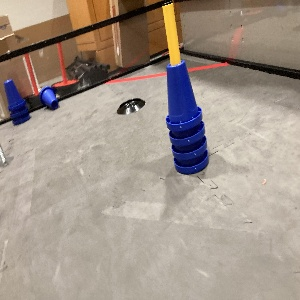Blue_1: (39, 85, 58, 108)
Blue_2: (3, 78, 31, 125)
Blue_4: (165, 59, 208, 173)
